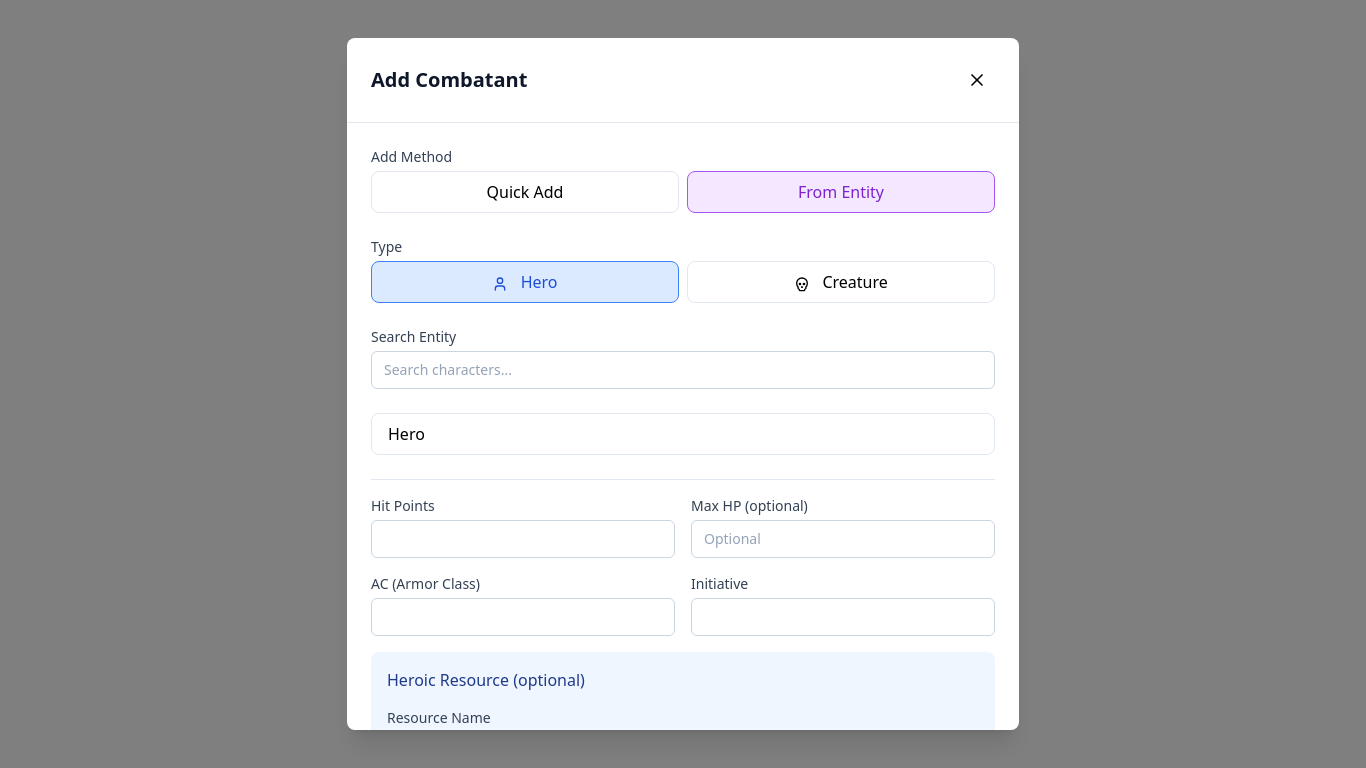
it: AddCombatantModal - Form Validation › should show error when HP is greater than Max HP
This screenshot has width=1366, height=768.
Type "50" into the number field labelled "Hit Points" at point(523, 539), box [371,520,675,558]
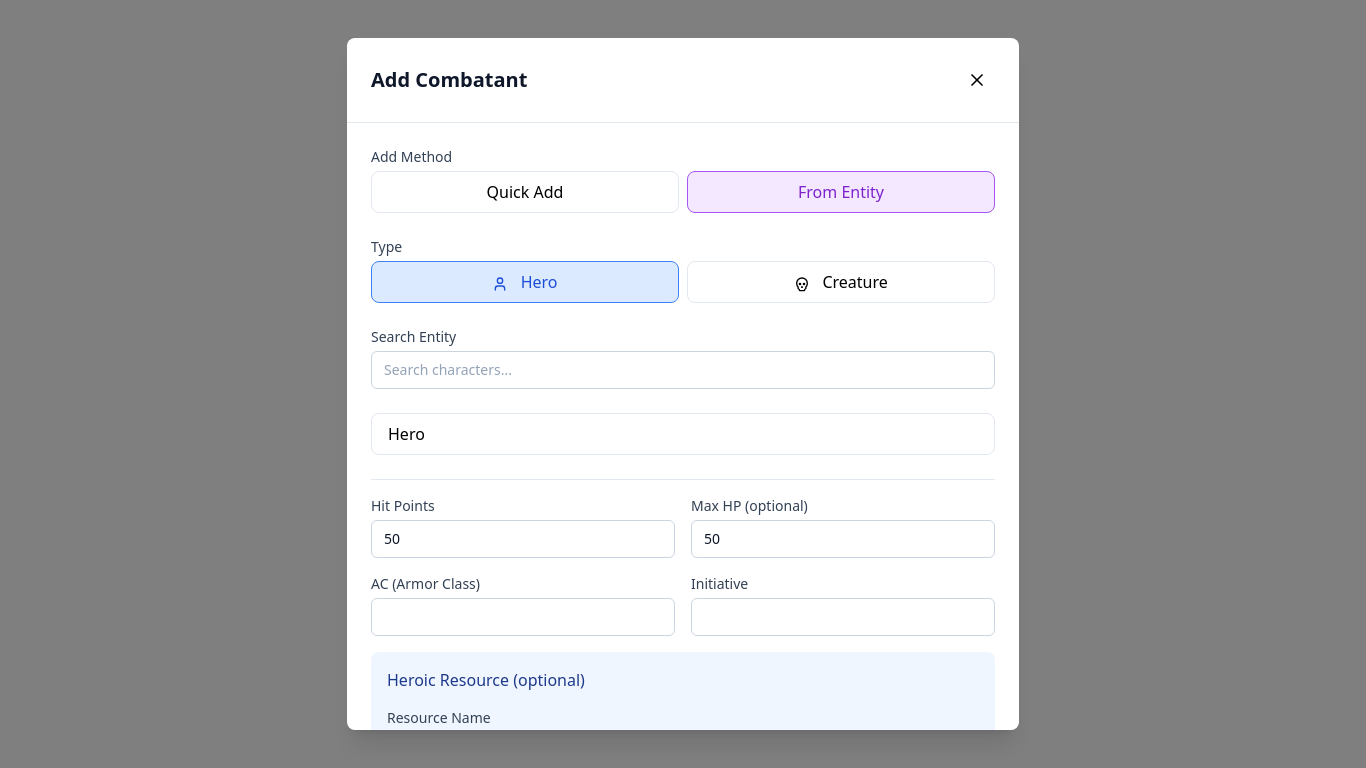
Replace the text in the number field labelled "Max HP (optional)" with "40" at point(843, 539), box [691,520,995,558]
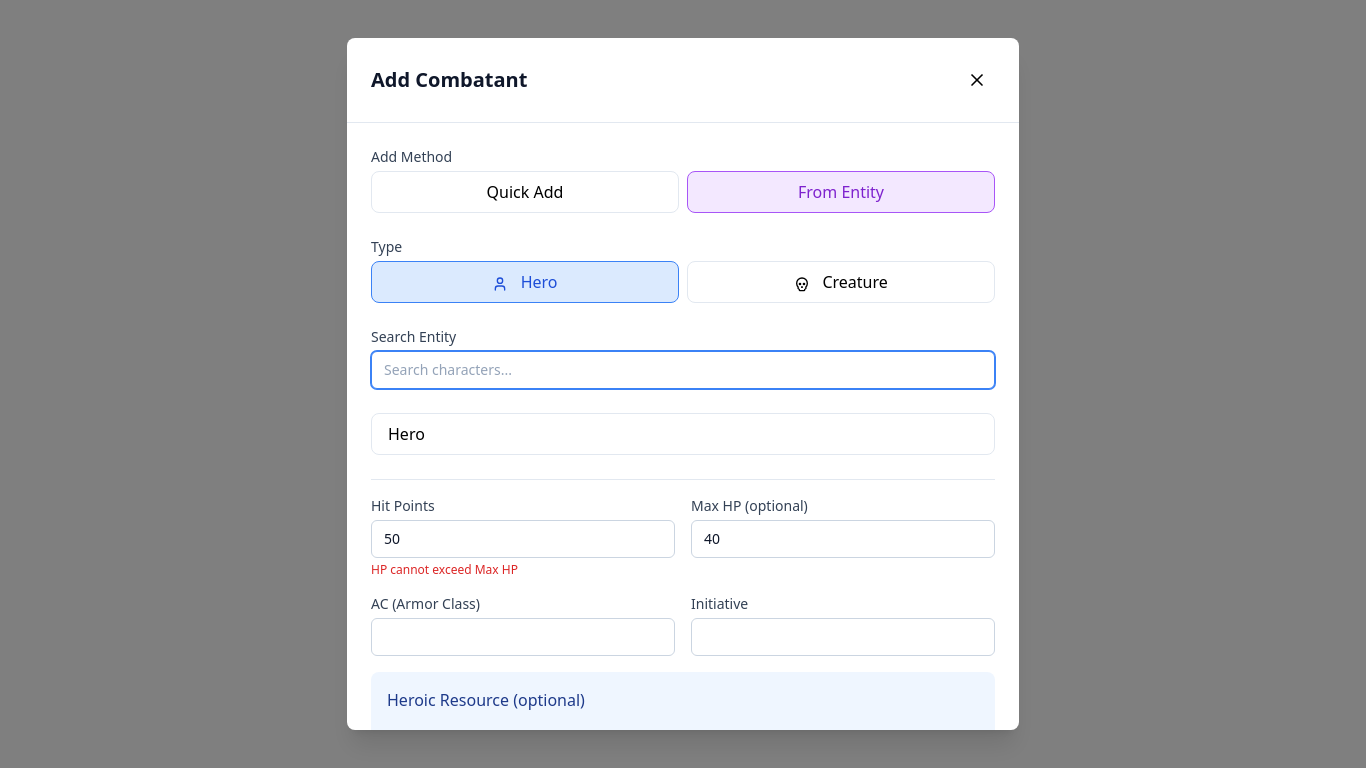
Check: the text "HP cannot exceed Max HP" is shown, box [371,561,518,578]
